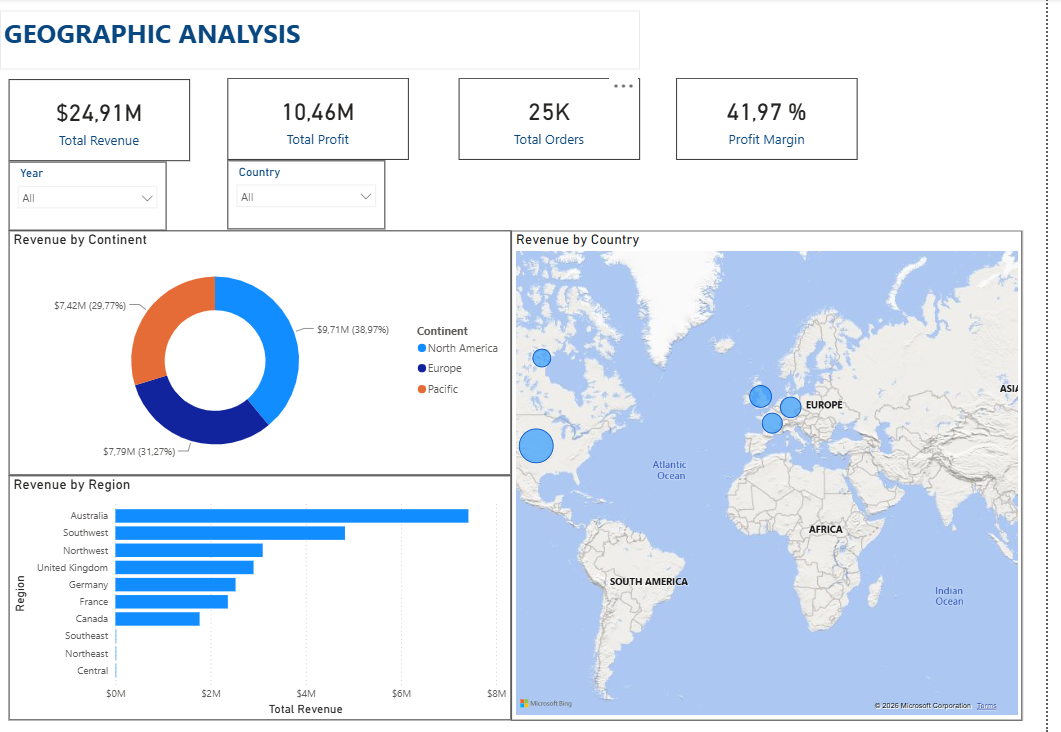

This screenshot's page, from the dashboard's own definition file:
{"tool":"powerbi","page":{"name":"Geographic Analysis","canvas":[1280,900],"ordinal":3},"visuals":[{"type":"card","fields":{"Values":["vw_SalesAnalysis.Total Revenue"]},"box":[10.7,99.4,221.6,100],"z":0},{"type":"card","fields":{"Values":["vw_SalesAnalysis.Total Profit"]},"box":[278.2,97.8,221.6,100],"z":1000},{"type":"card","fields":{"Values":["vw_SalesAnalysis.Total Orders"]},"box":[561,97.8,221.6,100],"z":2000},{"type":"card","fields":{"Values":["vw_SalesAnalysis.Profit Margin"]},"box":[826.9,97.8,221.6,100],"z":3000},{"type":"slicer","fields":{"Values":["Calendar.Year"]},"box":[10.7,200.2,192.6,84],"z":4000},{"type":"slicer","fields":{"Values":["vw_SalesAnalysis.Country"]},"box":[278.2,198.7,192.6,84],"z":5000},{"type":"donutChart","title":"Revenue by Continent","fields":{"Category":["vw_SalesAnalysis.Continent"],"Y":["vw_SalesAnalysis.Total Revenue"]},"box":[10.7,284.3,614.5,299.6],"z":6000},{"type":"clusteredBarChart","title":"Revenue by Region","fields":{"Y":["vw_SalesAnalysis.Total Revenue"],"Category":["vw_SalesAnalysis.Region"]},"box":[10.7,583.9,614.5,299.6],"z":7000},{"type":"map","title":"Revenue by Country","fields":{"Category":["vw_SalesAnalysis.Country"],"Size":["vw_SalesAnalysis.Total Revenue"]},"box":[625.2,284.3,625.2,599.2],"z":8000},{"type":"textbox","box":[0,15.3,782.6,71.8],"z":8001}]}

Visuals, with their boxes in screenshot pixels (x1, y1, x2, y2), scaled from the page's 1280x900 canvas onto the 1061x732 screenshot:
card - vw_SalesAnalysis.Total Revenue: box(9, 81, 193, 162)
card - vw_SalesAnalysis.Total Profit: box(231, 80, 414, 161)
card - vw_SalesAnalysis.Total Orders: box(465, 80, 649, 161)
card - vw_SalesAnalysis.Profit Margin: box(685, 80, 869, 161)
slicer - Calendar.Year: box(9, 163, 169, 231)
slicer - vw_SalesAnalysis.Country: box(231, 162, 390, 230)
"Revenue by Continent" donutChart: box(9, 231, 518, 475)
"Revenue by Region" clusteredBarChart: box(9, 475, 518, 719)
"Revenue by Country" map: box(518, 231, 1036, 719)
textbox: box(0, 12, 649, 71)
